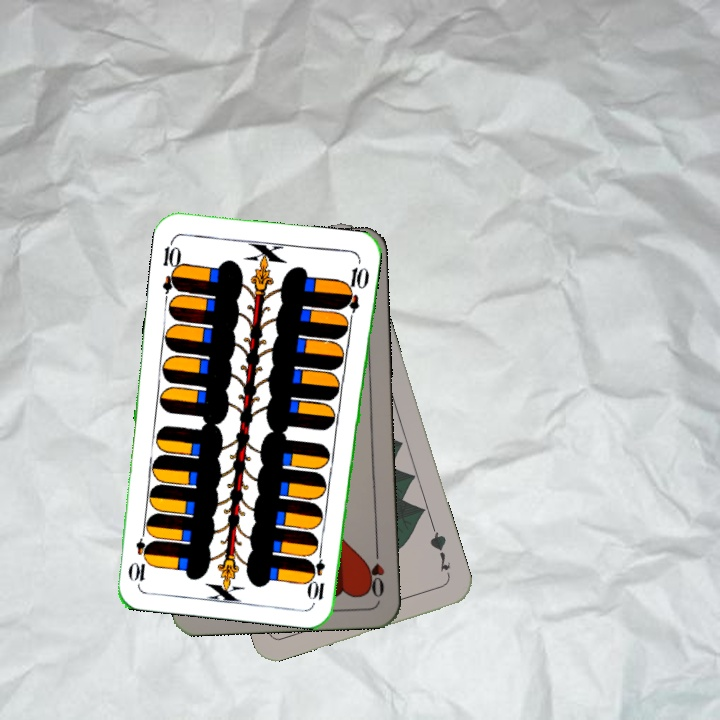E10: (158, 236, 184, 295), (308, 543, 327, 603)
G7: (425, 523, 454, 575)
HO: (364, 542, 387, 601)
